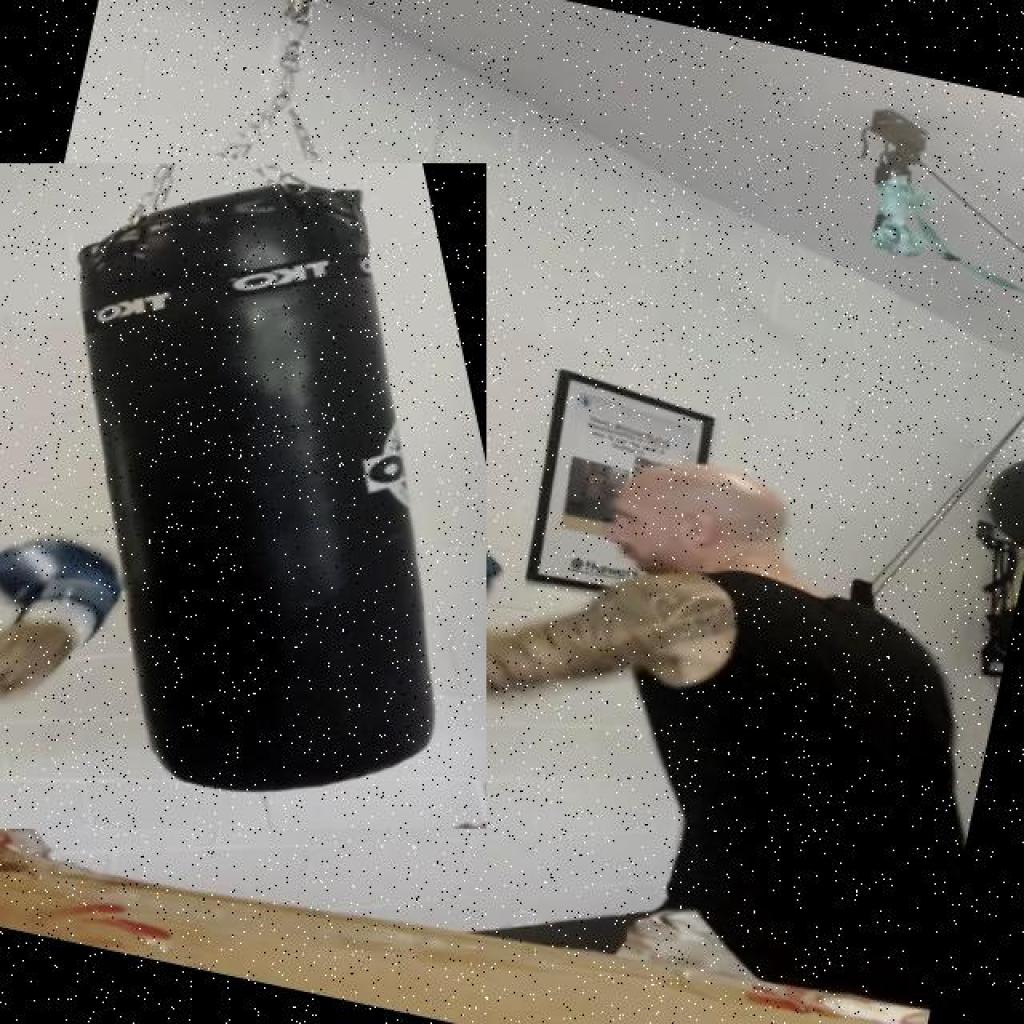bag: (0, 163, 486, 828)
hook: (339, 370, 992, 798)
